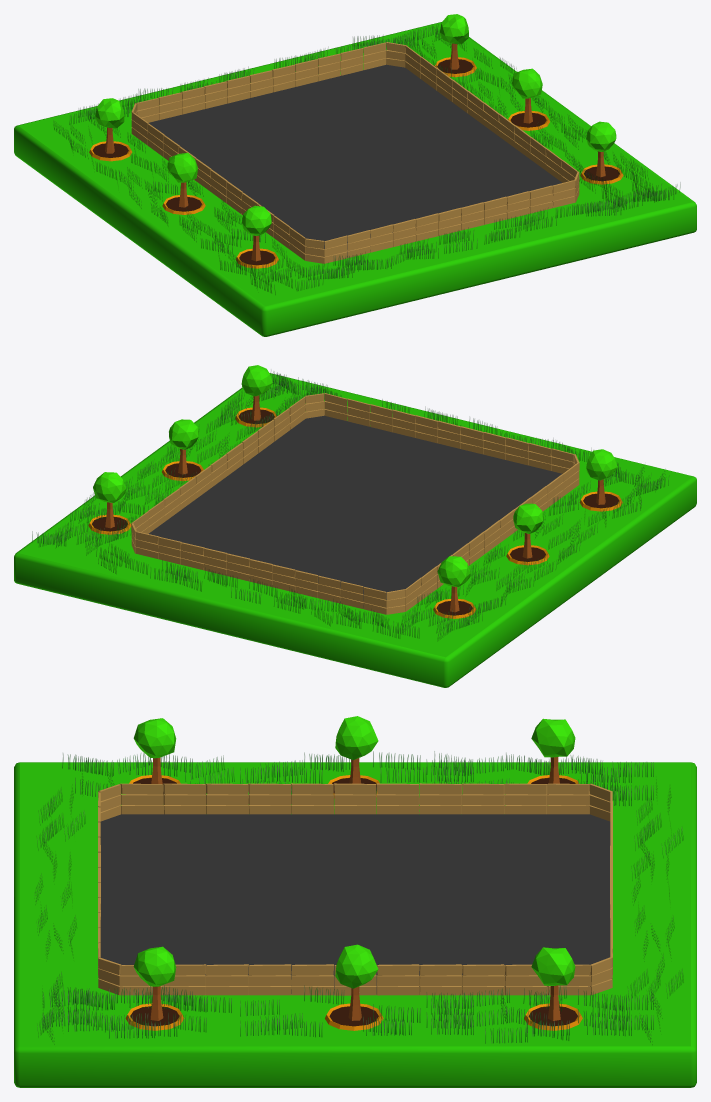
File: map.glb
The picture shows the model from 3 angles, top to bottom: view 1: azimuth 30°, elevation 25°; view 2: azimuth 150°, elevation 25°; view 3: azimuth 270°, elevation 25°; orthographic projection. The views are drawn at different scales.
Visible parts, largest first — view 1: Ground, Plane, Cube, grassplane1, Tree.001, Tree.004, Tree.005, Tree.002, Tree, Tree.003, Torus.006, Torus.005 (+4 smaller); view 2: Ground, Plane, Cube, grassplane1, Tree.004, Tree.001, Tree, Tree.003, Tree.005, Tree.002, Torus.005, Torus.004 (+4 smaller); view 3: Ground, Plane, Cube, grassplane1, Tree.002, Tree.001, Tree, Tree.005, Tree.004, Tree.003, Torus.002, Torus.001 (+1 smaller).
Part boxes in pixels (x1,y1,x2,y2): Ground: (14, 22, 696, 336); Plane: (149, 64, 561, 256); Cube: (131, 42, 579, 263); grassplane1: (53, 24, 680, 294); Tree.001: (440, 14, 468, 69); Tree.004: (95, 98, 124, 153); Tree.005: (167, 152, 197, 207); Tree.002: (512, 68, 542, 123); Tree: (586, 121, 616, 177); Tree.003: (242, 205, 271, 261); Torus.006: (89, 141, 132, 161); Torus.005: (162, 195, 205, 214); Ground: (14, 373, 696, 687); Plane: (149, 415, 562, 608); Cube: (131, 393, 579, 614); grassplane1: (32, 371, 668, 640); Tree.004: (437, 556, 470, 612); Tree.001: (93, 472, 125, 528); Tree: (241, 365, 272, 420); Tree.003: (586, 449, 617, 504); Tree.005: (513, 503, 543, 558); Tree.002: (169, 419, 198, 474); Torus.005: (506, 545, 549, 565); Torus.004: (579, 491, 622, 511); Ground: (14, 762, 696, 1087); Plane: (100, 814, 610, 994); Cube: (98, 783, 612, 995); grassplane1: (34, 751, 683, 1044); Tree.002: (335, 944, 378, 1020); Tree.001: (531, 947, 575, 1020); Tree: (133, 946, 176, 1020); Tree.005: (335, 716, 378, 783); Tree.004: (531, 718, 575, 783); Tree.003: (133, 718, 176, 784); Torus.002: (325, 1003, 383, 1030); Torus.001: (524, 1003, 582, 1030).
Size of the model in its own units: 24 by 4.33 by 24.
Materials: 8 (1 with a texture image).
